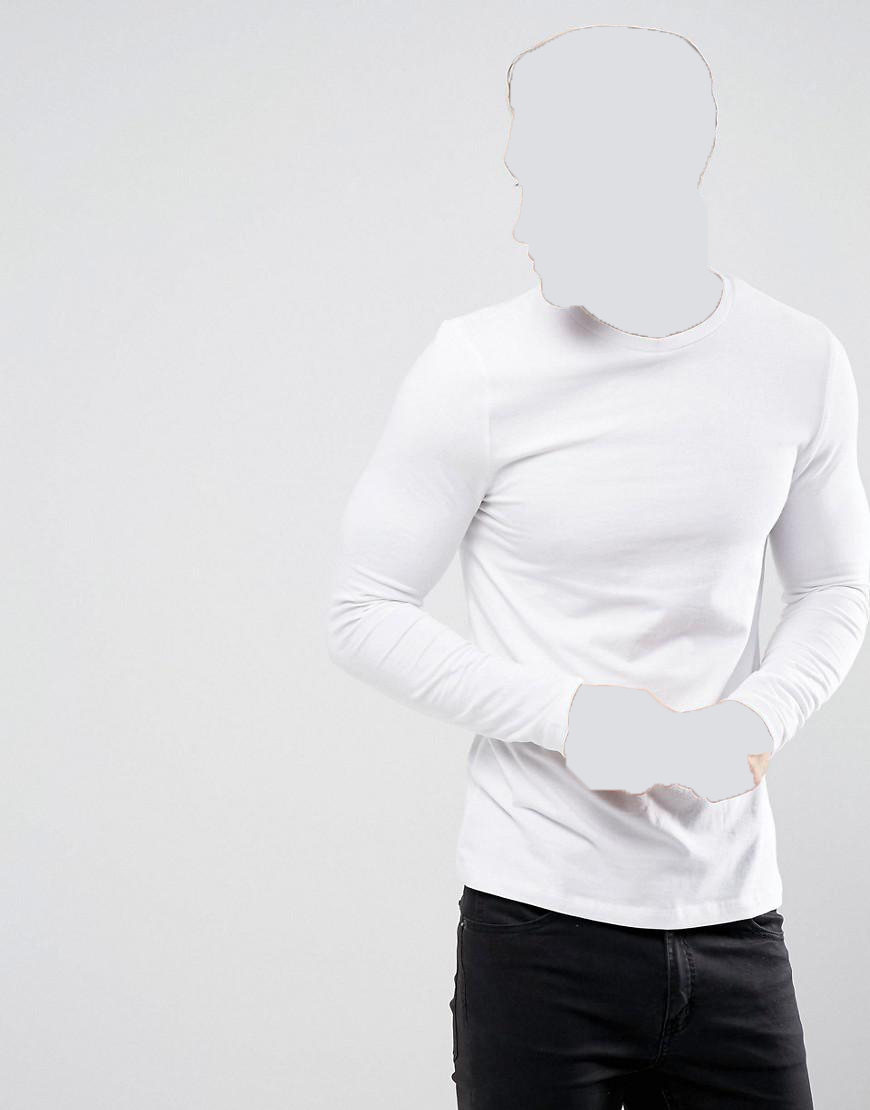teeshirt: (320, 262, 870, 929)
